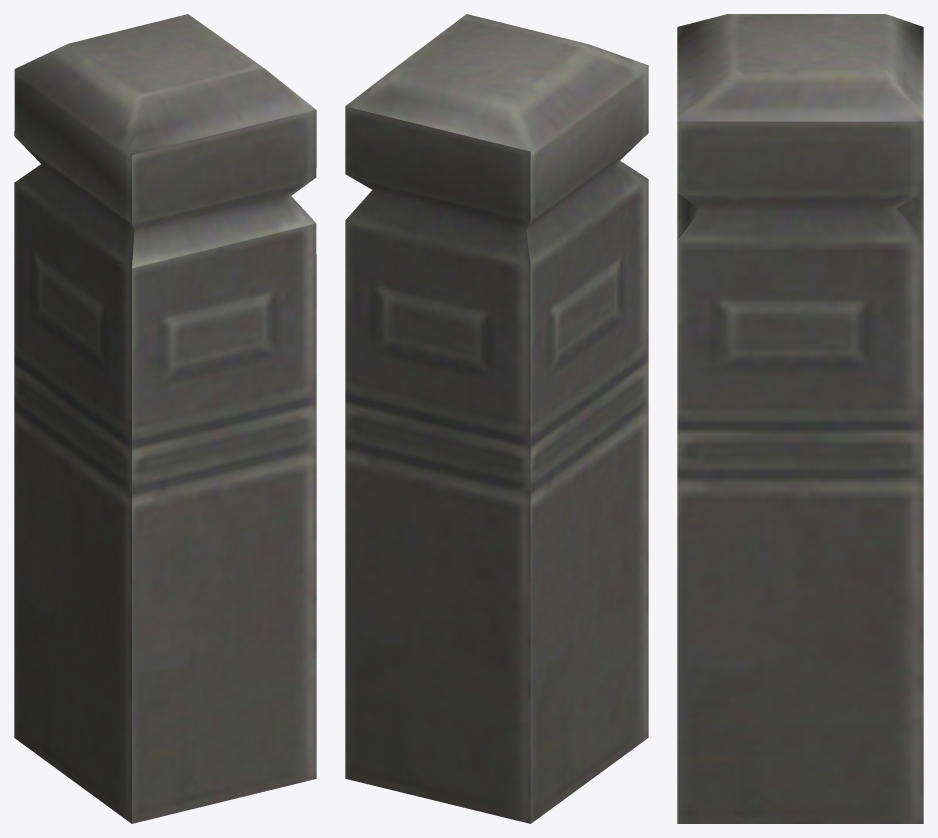
The model's file is City_bujian_27.fbx.
The picture shows the model from 3 angles, left to right: view 1: azimuth 30°, elevation 25°; view 2: azimuth 150°, elevation 25°; view 3: azimuth 270°, elevation 25°; orthographic projection. The views are drawn at different scales.
Visible parts, largest first — view 1: City_1_2017_3_7_2:City_1_2017_3_7_2:polySurface4199; view 2: City_1_2017_3_7_2:City_1_2017_3_7_2:polySurface4199; view 3: City_1_2017_3_7_2:City_1_2017_3_7_2:polySurface4199.
Part boxes in pixels (<box>): City_1_2017_3_7_2:City_1_2017_3_7_2:polySurface4199: <box>14,14,316,823</box>; City_1_2017_3_7_2:City_1_2017_3_7_2:polySurface4199: <box>345,14,648,823</box>; City_1_2017_3_7_2:City_1_2017_3_7_2:polySurface4199: <box>677,14,923,823</box>.
Bounding box in the file's own units: 0.5225 × 1.89 × 0.5755.
